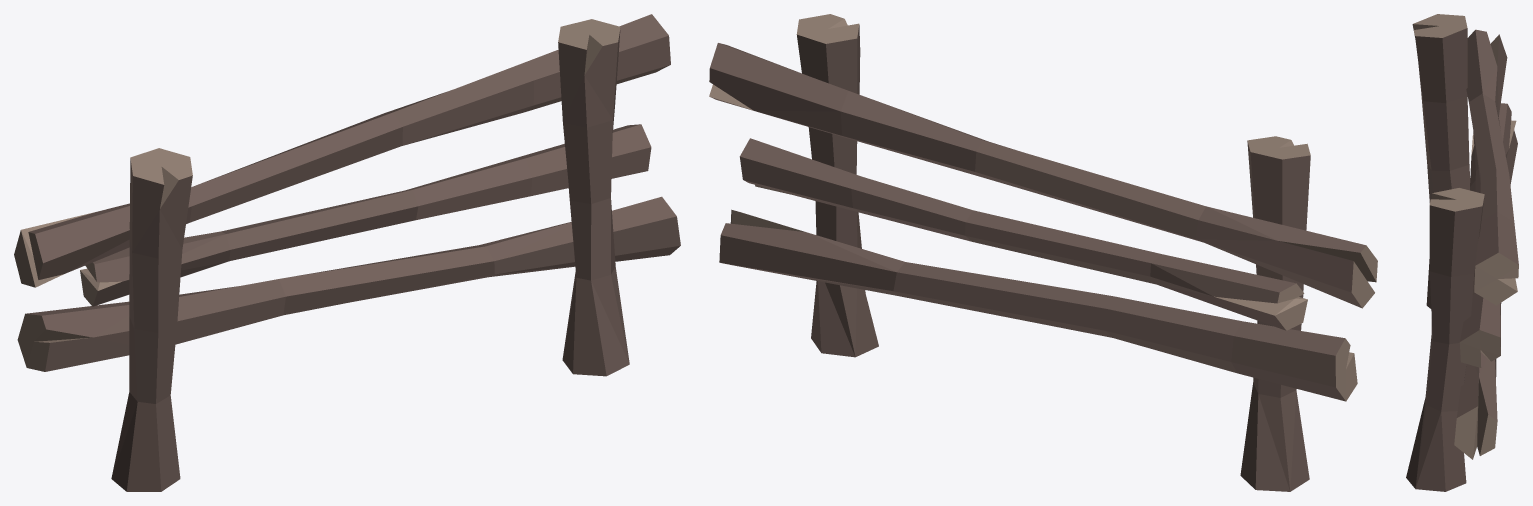
File: fence_gate.glb
3 renders of one model, left to right at view 1: azimuth 30°, elevation 25°; view 2: azimuth 150°, elevation 25°; view 3: azimuth 270°, elevation 25°, orthographic. The views are drawn at different scales.
Visible parts, largest first — view 1: fence_gate; view 2: fence_gate; view 3: fence_gate.
Boxes of the visible parts, bbox=[...] form: fence_gate: bbox=[14, 14, 680, 491]; fence_gate: bbox=[709, 14, 1377, 491]; fence_gate: bbox=[1406, 14, 1518, 491].
Size of the model in its own units: 13.75 by 6.95 by 2.36.
Materials: 1 (1 with a texture image).
